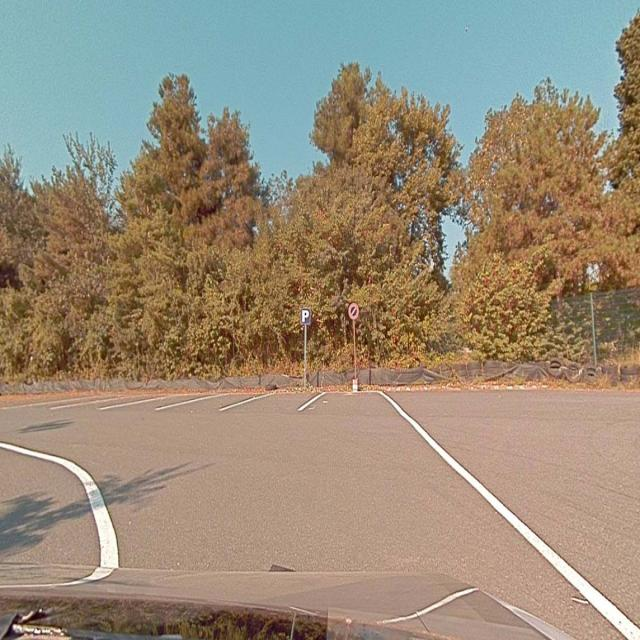park: (301, 308, 311, 324)
parkyasak: (349, 303, 359, 319)
